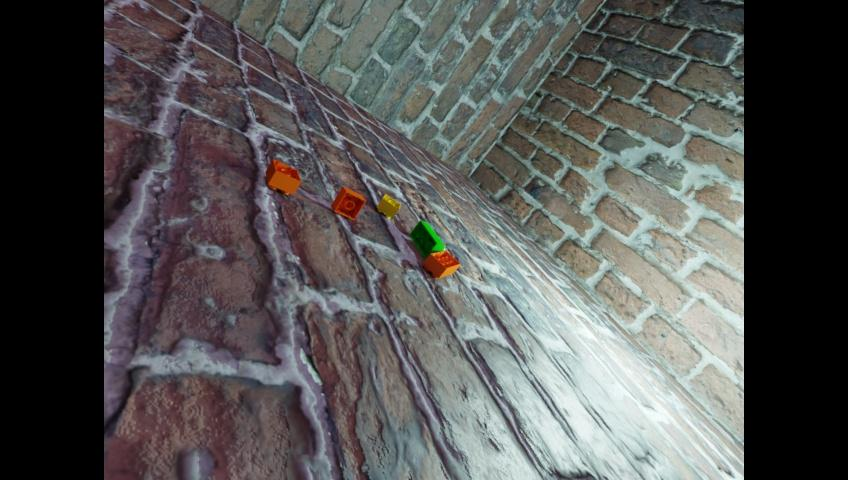2x2_orange: (265, 158, 300, 194), (331, 185, 365, 219)
2x2_yellow: (377, 193, 400, 218)
4x2_green: (409, 219, 444, 259)
4x2_orange: (423, 250, 459, 278)
